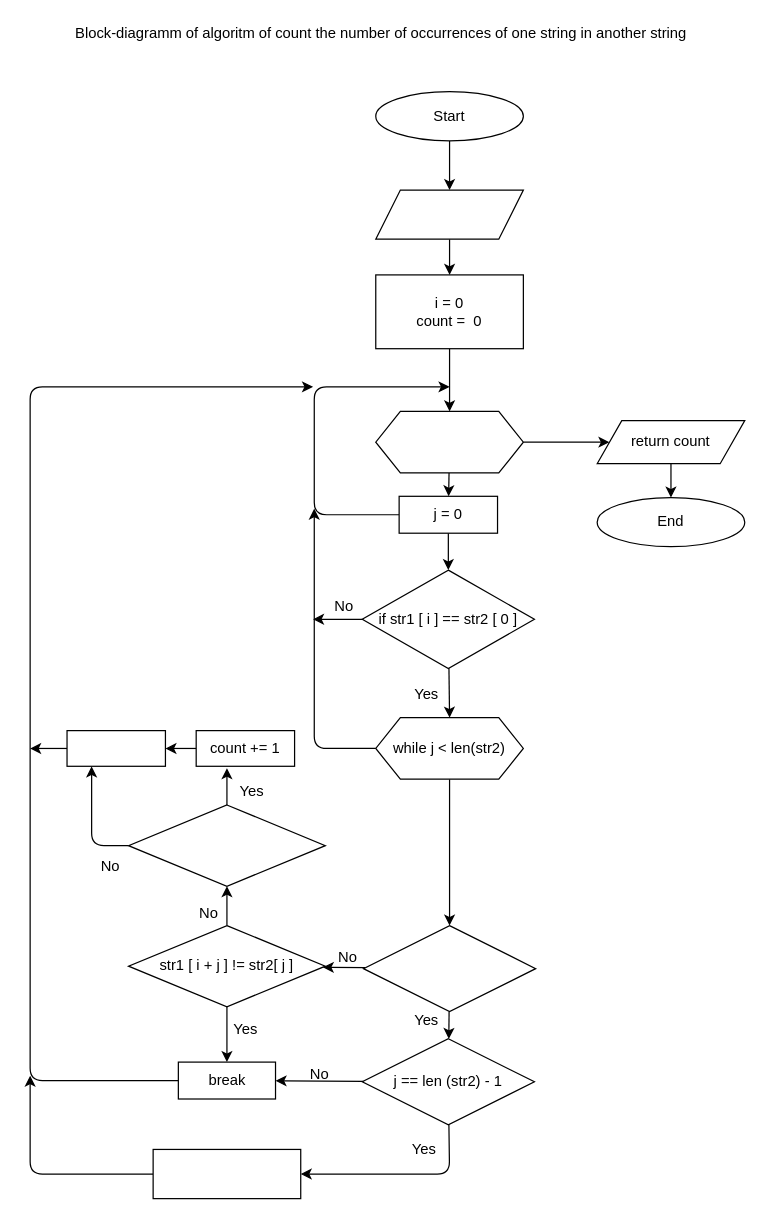
This 766x1220 diagram has some shape labels left out. Here are the shapes that lost their labels. From the top down, the centre of each, then its label:
(x=449, y=214): enter str1, str2
(x=449, y=441): while i < len(str1)
(x=115, y=747): j += 1
(x=226, y=845): j == len(str2) - 1
(x=449, y=968): j + i >= len(str1)-1
(x=226, y=1173): count += 1 break
